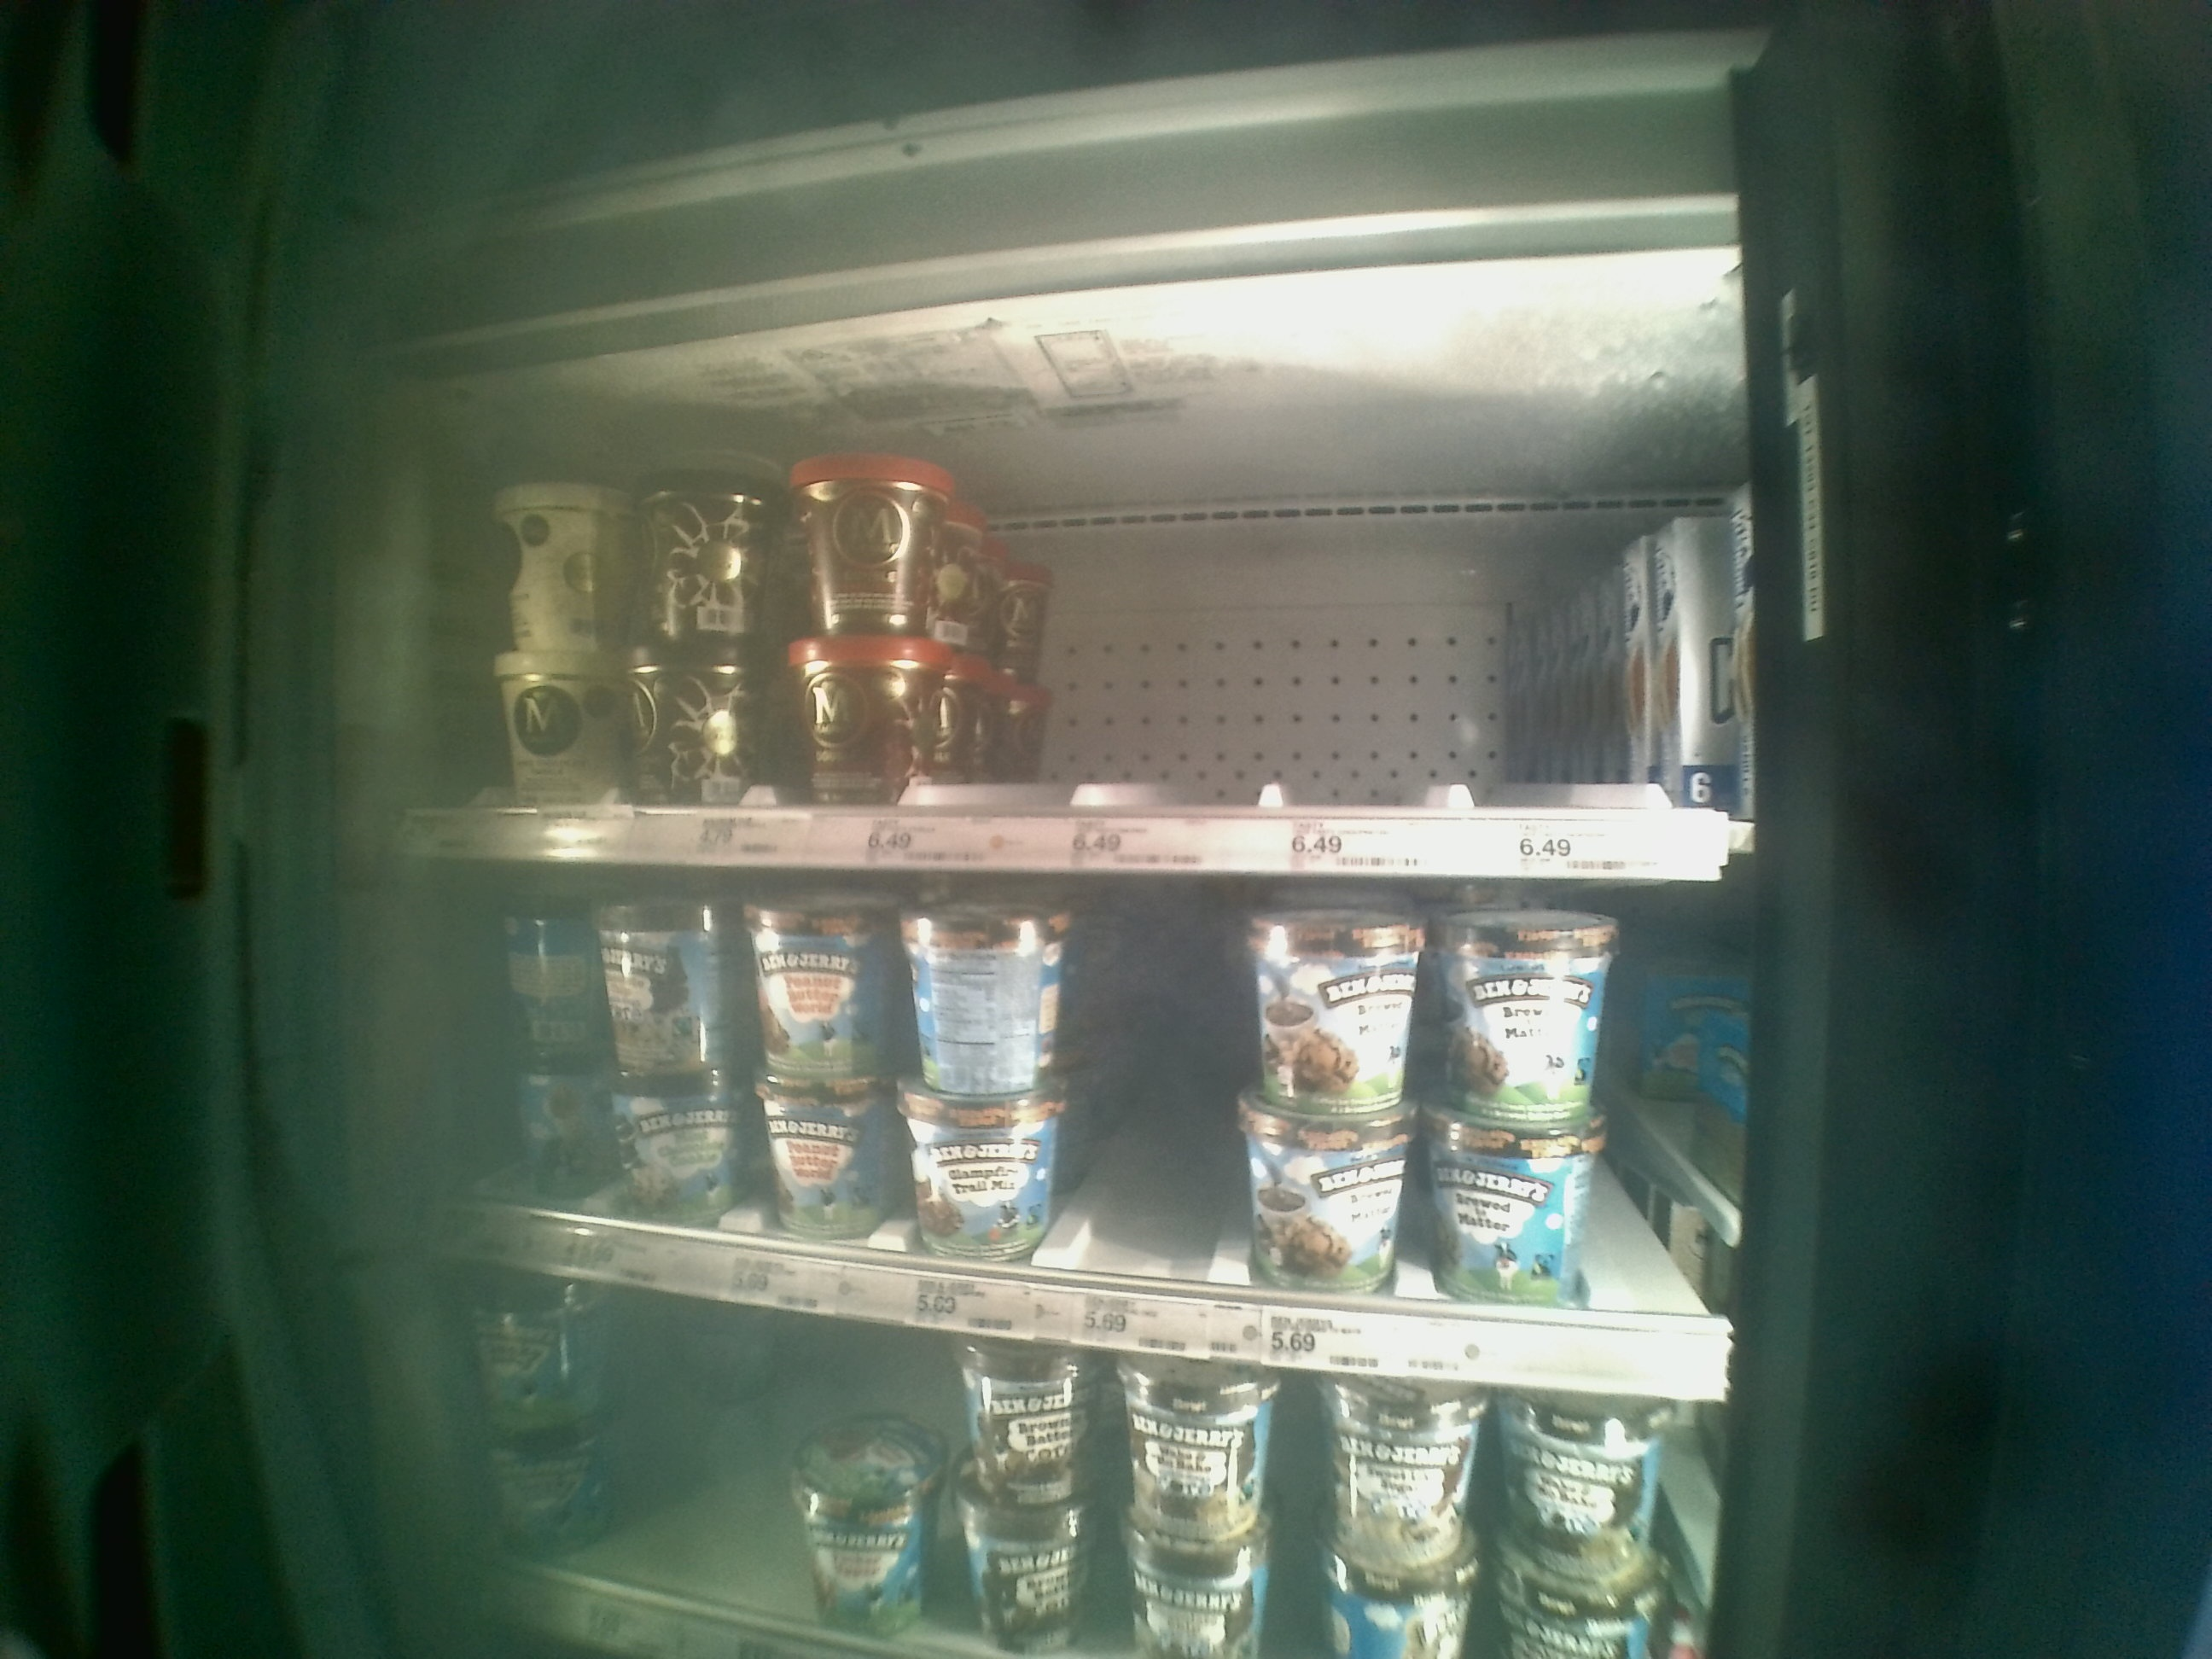shelf: (409, 871, 1742, 1412), (399, 375, 1759, 873)
